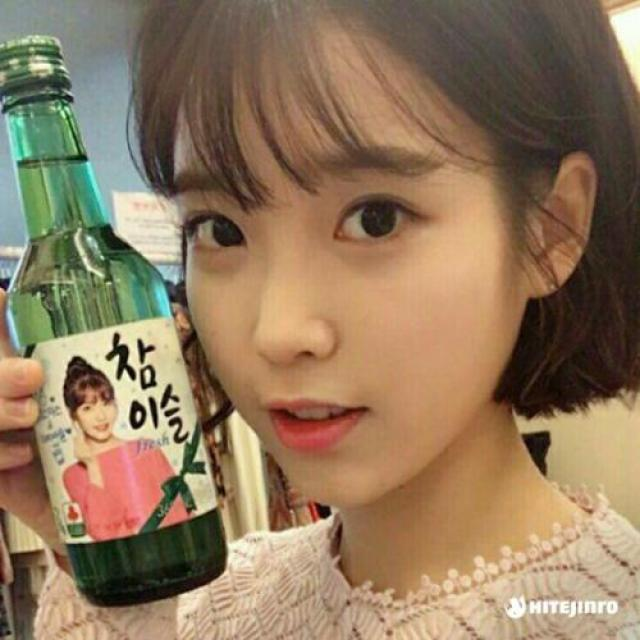soju-bottle: (1, 34, 229, 606)
